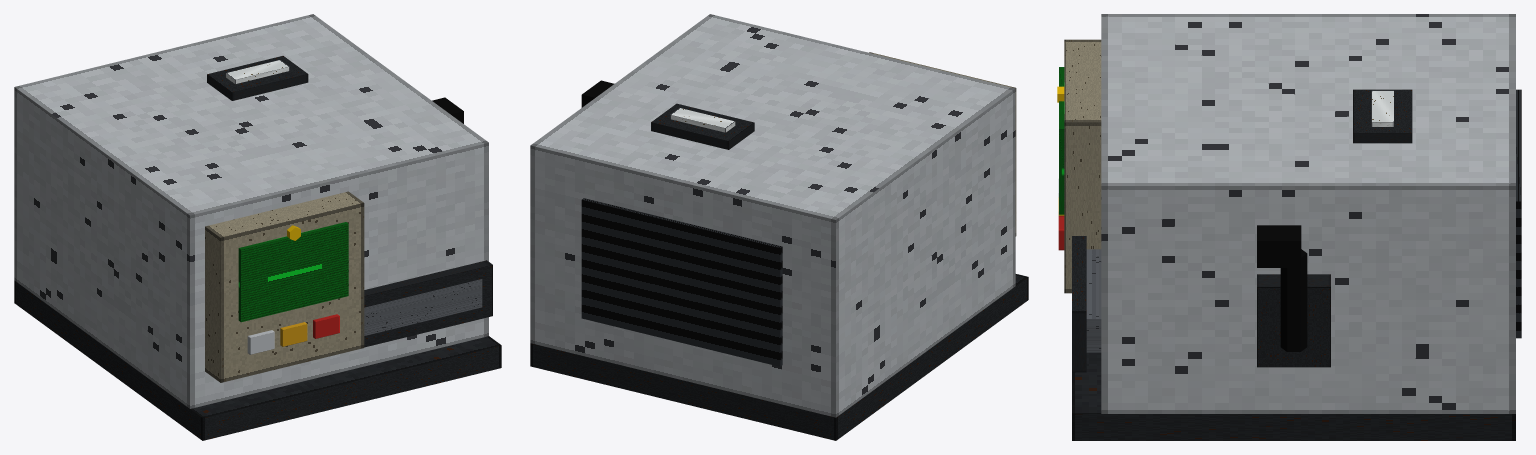
Rendered from sample_analyzer.glb.
The picture shows the model from 3 angles, left to right: view 1: azimuth 30°, elevation 25°; view 2: azimuth 150°, elevation 25°; view 3: azimuth 270°, elevation 25°; orthographic projection. The views are drawn at different scales.
Visible parts, largest first — view 1: sample_analyzer; view 2: sample_analyzer; view 3: sample_analyzer.
Part boxes in pixels (<box>): sample_analyzer: <box>14,14,501,440</box>; sample_analyzer: <box>530,14,1028,440</box>; sample_analyzer: <box>1057,14,1521,440</box>.
Size of the model in its own units: 0.625 by 0.4025 by 0.627.
Materials: 1 (1 with a texture image).
